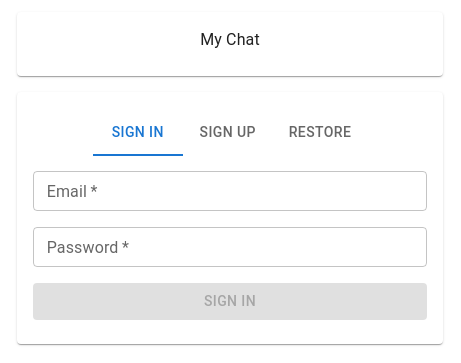
Test case: RestoreForm › Invalid email
Click the tab with test id "tab_btn-3".
click(320, 132)  # box [273,108,367,156]
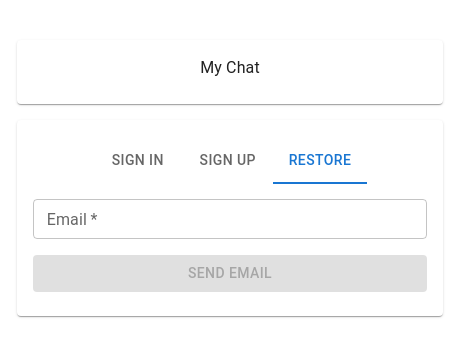
Result: the form with test id "restore-form" is shown at [33,199,427,292]
Type "test" into the field with test id "email-input".
click(230, 219); type("test")  # box [33,199,427,239]
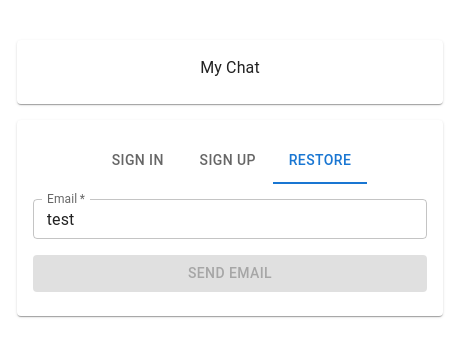
Leave the field with test id "email-input", box [33,199,427,239]
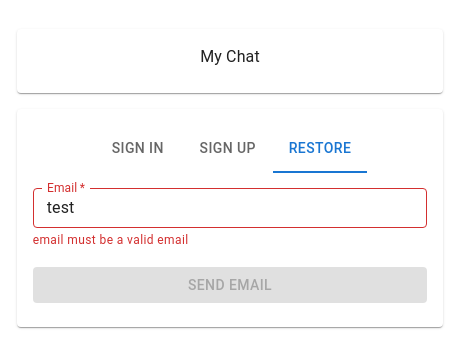
Expected: the button with test id "submit-btn" is disabled, [33,267,427,303]
Result: the text "email must be a valid email" is shown at [33,233,189,247]
